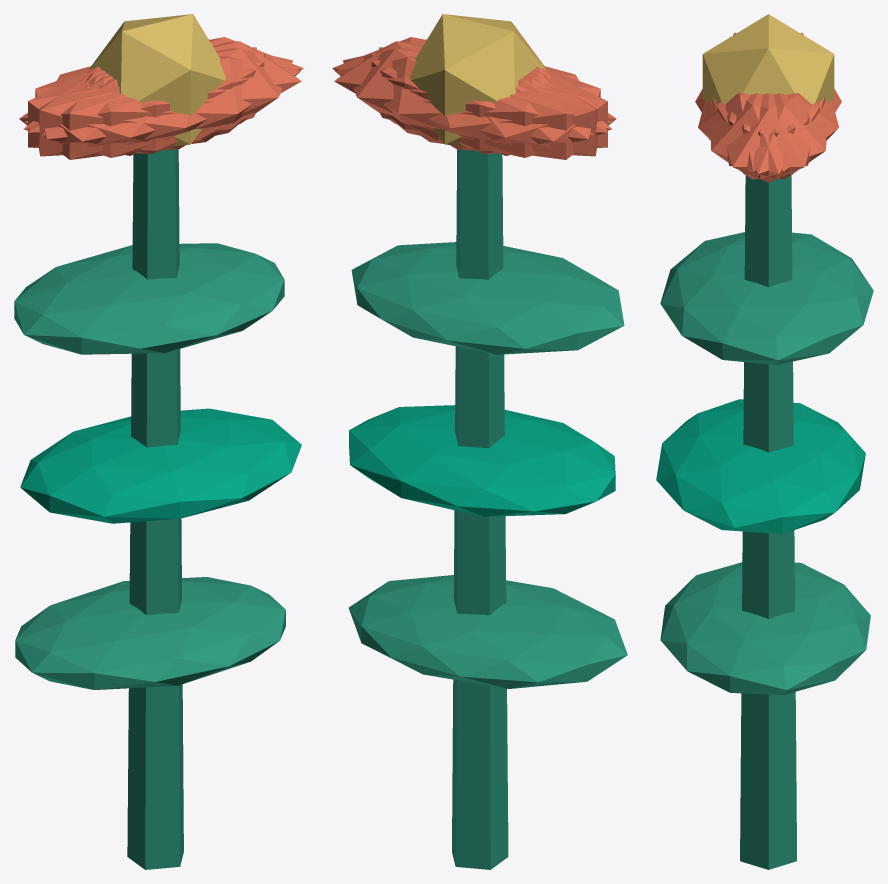
File: spinacia-oleracea.glb
3 renders of one model, left to right at view 1: azimuth 30°, elevation 25°; view 2: azimuth 150°, elevation 25°; view 3: azimuth 270°, elevation 25°, orthographic.
Visible parts, largest first — view 1: stem, leaf1, leaf2, leaf0, center, petal1, petal6, petal2, petal5, petal7, petal0, petal4 (+2 smaller); view 2: stem, leaf2, leaf0, leaf1, center, petal8, petal3, petal7, petal4, petal2, petal0, petal5 (+2 smaller); view 3: stem, leaf2, leaf1, leaf0, center, petal0, petal4, petal5, petal1, petal8.
Boxes of the visible parts, x1,y1,x2,y2 form: stem: (127,149,183,869); leaf1: (20,408,301,523); leaf2: (14,243,284,354); leaf0: (15,577,285,689); center: (89,14,225,146); petal1: (23,56,300,157); petal6: (19,68,219,159); petal2: (38,47,256,156); petal5: (42,48,292,150); petal7: (28,53,264,153); petal0: (89,41,301,141); petal4: (25,37,303,132); stem: (452,149,508,869); leaf2: (351,242,624,354); leaf0: (348,575,627,688); leaf1: (349,405,615,516); center: (410,14,546,146); petal8: (335,56,611,157); petal3: (416,68,616,159); petal7: (379,47,597,156); petal4: (342,48,593,150); petal2: (370,53,607,153); petal0: (334,41,546,141); petal5: (332,37,610,132); stem: (740,175,796,869); leaf2: (660,232,873,365); leaf1: (656,399,865,533); leaf0: (660,562,870,695); center: (702,14,834,103); petal0: (712,93,824,182); petal4: (717,93,826,179); petal5: (710,93,819,179); petal1: (698,93,809,171); petal8: (727,93,838,171).
Bounding box in the file's own units: 0.1493 × 0.4247 × 0.1014.
